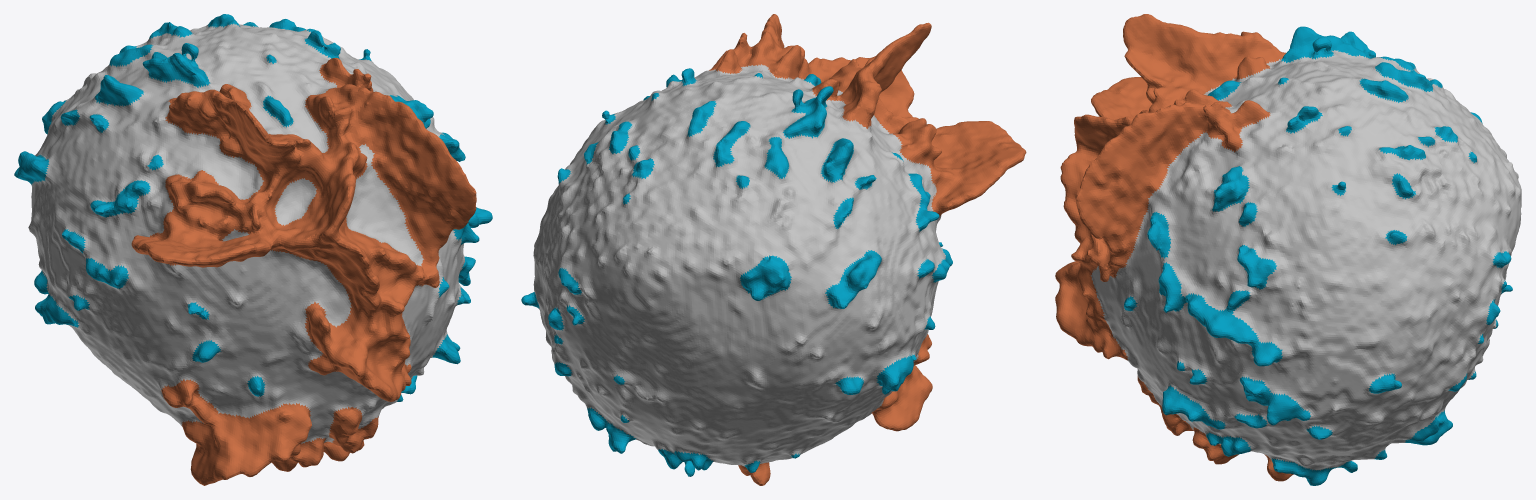
3 views of the same model, side by side, from view 1: azimuth 30°, elevation 25°; view 2: azimuth 150°, elevation 25°; view 3: azimuth 270°, elevation 25° (orthographic). The views are drawn at different scales.
Bounding box in the file's own units: 154 × 162 × 165.
